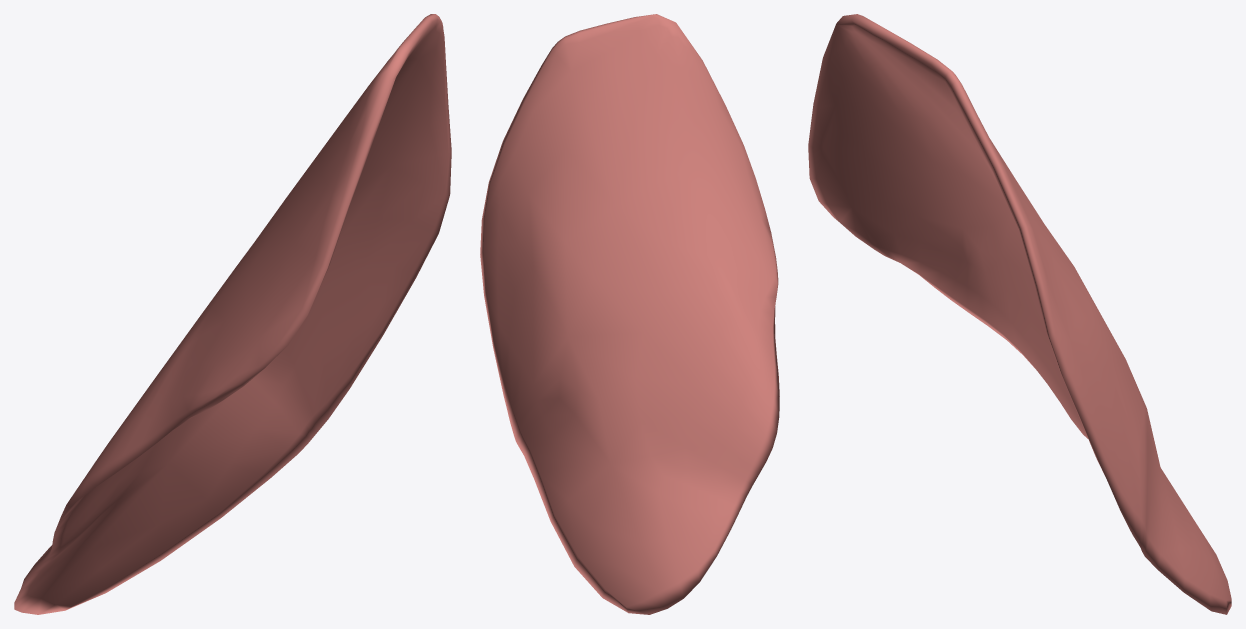
3 views of the same model, side by side, from view 1: azimuth 30°, elevation 25°; view 2: azimuth 150°, elevation 25°; view 3: azimuth 270°, elevation 25° (orthographic). The views are drawn at different scales.
Visible parts, largest first — view 1: ZA_780d616e671d4928; view 2: ZA_780d616e671d4928; view 3: ZA_780d616e671d4928.
Part boxes in pixels (x1,y1,x2,y2): ZA_780d616e671d4928: (14,14,451,614); ZA_780d616e671d4928: (480,14,779,614); ZA_780d616e671d4928: (808,14,1231,614).
Size of the model in its own units: 0.0166 by 0.0264 by 0.0153.
